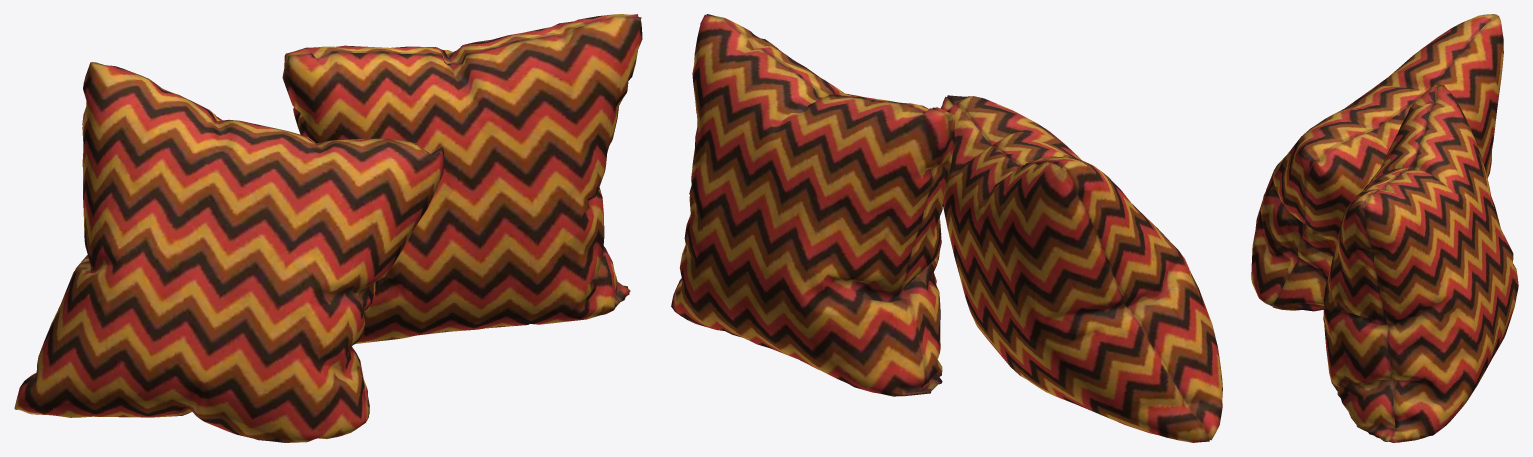
Rendered from throw_pillows_01.glb.
The picture shows the model from 3 angles, left to right: view 1: azimuth 30°, elevation 25°; view 2: azimuth 150°, elevation 25°; view 3: azimuth 270°, elevation 25°; orthographic projection. The views are drawn at different scales.
Visible parts, largest first — view 1: throw_pillows_01_pillow01, throw_pillows_01_pillow02; view 2: throw_pillows_01_pillow02, throw_pillows_01_pillow01; view 3: throw_pillows_01_pillow02, throw_pillows_01_pillow01.
Boxes of the visible parts, left/top/right/bottom form: throw_pillows_01_pillow01: left=14, top=62, right=444, bottom=442; throw_pillows_01_pillow02: left=282, top=14, right=642, bottom=343; throw_pillows_01_pillow02: left=671, top=14, right=954, bottom=396; throw_pillows_01_pillow01: left=940, top=95, right=1222, bottom=442; throw_pillows_01_pillow02: left=1323, top=84, right=1518, bottom=442; throw_pillows_01_pillow01: left=1251, top=14, right=1503, bottom=311.
Bounding box in the file's own units: 0.9401 × 0.4502 × 0.4519.
Materials: 1 (1 with a texture image).
